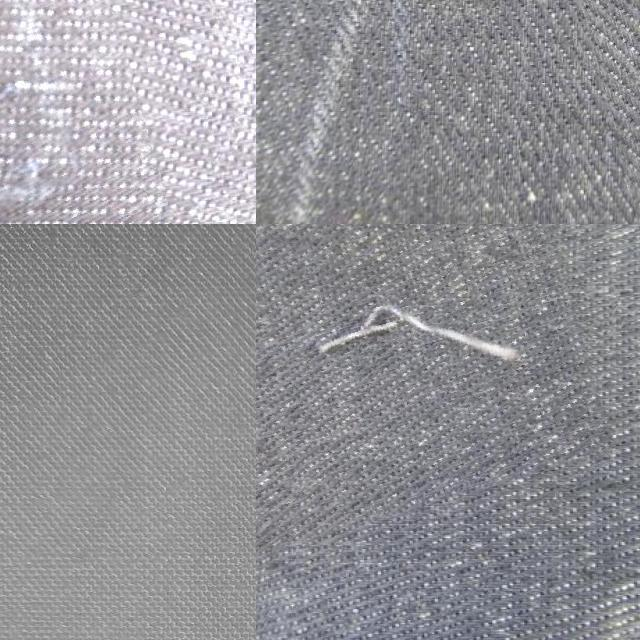stains: (256, 224, 594, 534), (0, 1, 188, 224), (532, 0, 640, 224)
